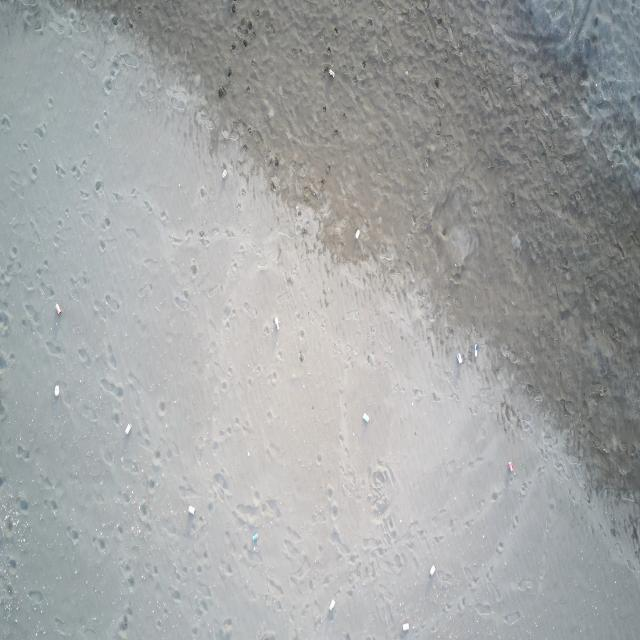tin-and-aluminum-cans: (328, 598, 336, 613), (56, 303, 64, 316), (362, 413, 370, 426), (429, 564, 436, 578), (125, 422, 132, 435), (507, 460, 514, 473), (275, 316, 281, 331), (188, 505, 196, 516), (252, 532, 259, 544), (327, 69, 335, 79), (457, 353, 464, 364), (221, 168, 228, 179), (473, 344, 479, 356), (55, 384, 60, 397), (402, 624, 410, 632), (356, 230, 362, 240)
